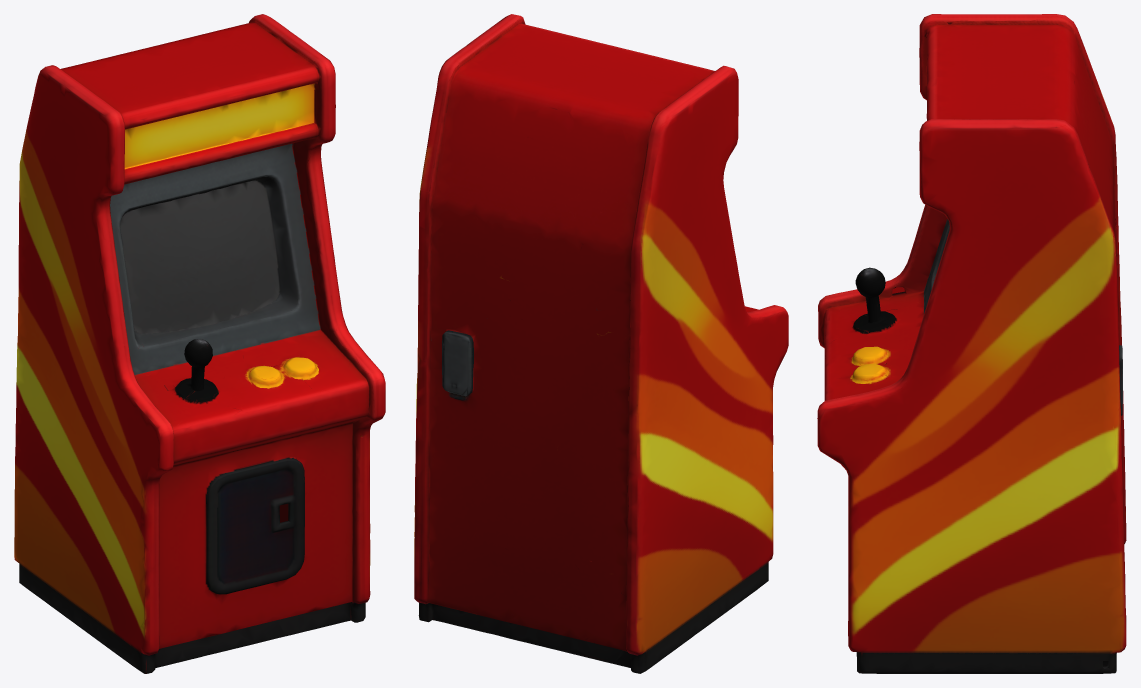
File: 03_arcade_03_upright_neon_red.glb
3 views of the same model, side by side, from view 1: azimuth 30°, elevation 25°; view 2: azimuth 150°, elevation 25°; view 3: azimuth 270°, elevation 25° (orthographic). The views are drawn at different scales.
Parts seen in each view (by area): view 1: world; view 2: world; view 3: world.
Part boxes in pixels (x1=…): world: x1=14, y1=14, x2=385, y2=673; world: x1=414, y1=14, x2=788, y2=673; world: x1=817, y1=14, x2=1126, y2=673.
Size of the model in its own units: 0.4424 by 1 by 0.5104.
1 material, 1 textured.
